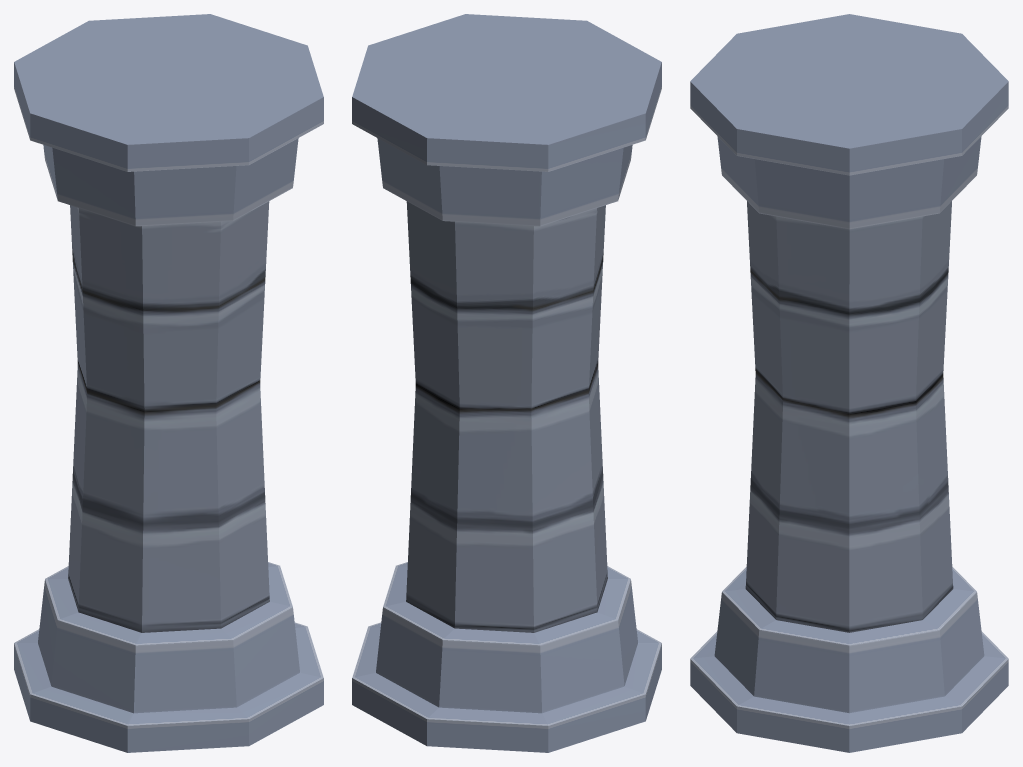
File: Pillar_Center_Round.fbx
3 views of the same model, side by side, from view 1: azimuth 30°, elevation 25°; view 2: azimuth 150°, elevation 25°; view 3: azimuth 270°, elevation 25° (orthographic).
Parts seen in each view (by area): view 1: Pillar_Center_Round; view 2: Pillar_Center_Round; view 3: Pillar_Center_Round.
Part boxes in pixels (x1,y1,x2,y2): Pillar_Center_Round: [14, 14, 323, 752]; Pillar_Center_Round: [352, 14, 661, 752]; Pillar_Center_Round: [690, 14, 1008, 752].
Bounding box in the file's own units: 37.07 × 77.59 × 37.07.
